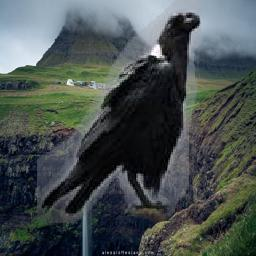Crow: (37, 0, 201, 223)
